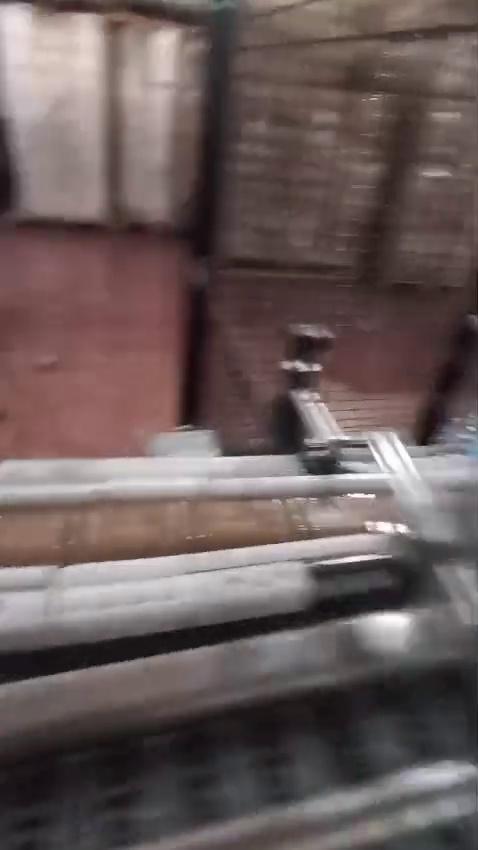savon: (256, 0, 474, 160), (201, 497, 280, 545), (95, 504, 163, 554), (409, 0, 478, 32), (32, 505, 80, 532), (282, 504, 316, 541), (104, 0, 126, 36), (0, 505, 24, 520), (255, 506, 280, 520), (300, 120, 314, 144), (272, 112, 296, 124), (164, 528, 192, 536)
